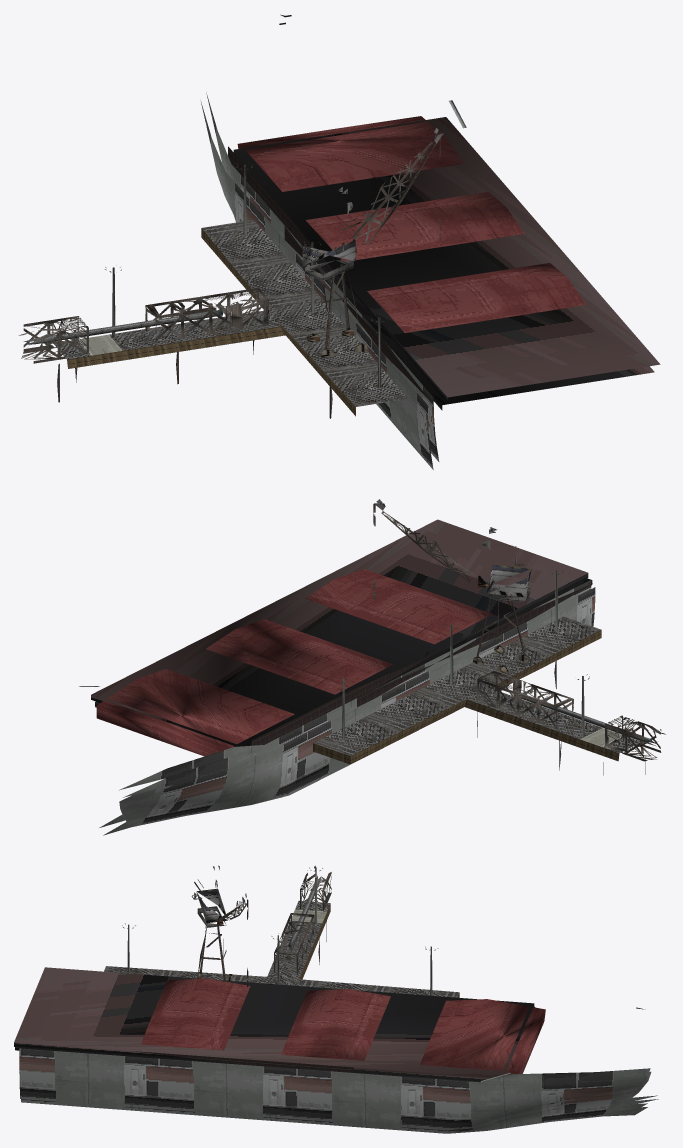
Rendered from world_camden_17_-9.gltf.
3 renders of one model, top to bottom at view 1: azimuth 30°, elevation 25°; view 2: azimuth 150°, elevation 25°; view 3: azimuth 270°, elevation 25°, orthographic. The views are drawn at different scales.
Bounding box in the file's own units: 245 × 93.8 × 312.
Materials: 14 (14 with a texture image).
